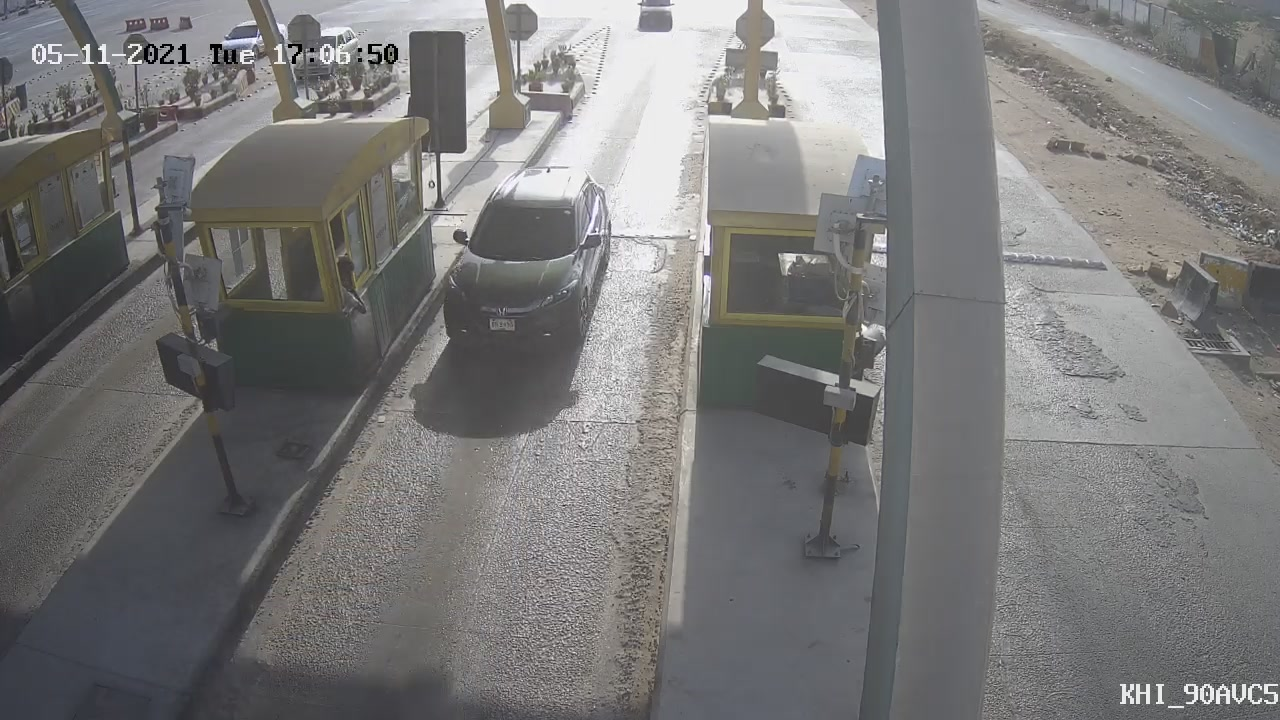F1: (413, 144, 637, 385)
